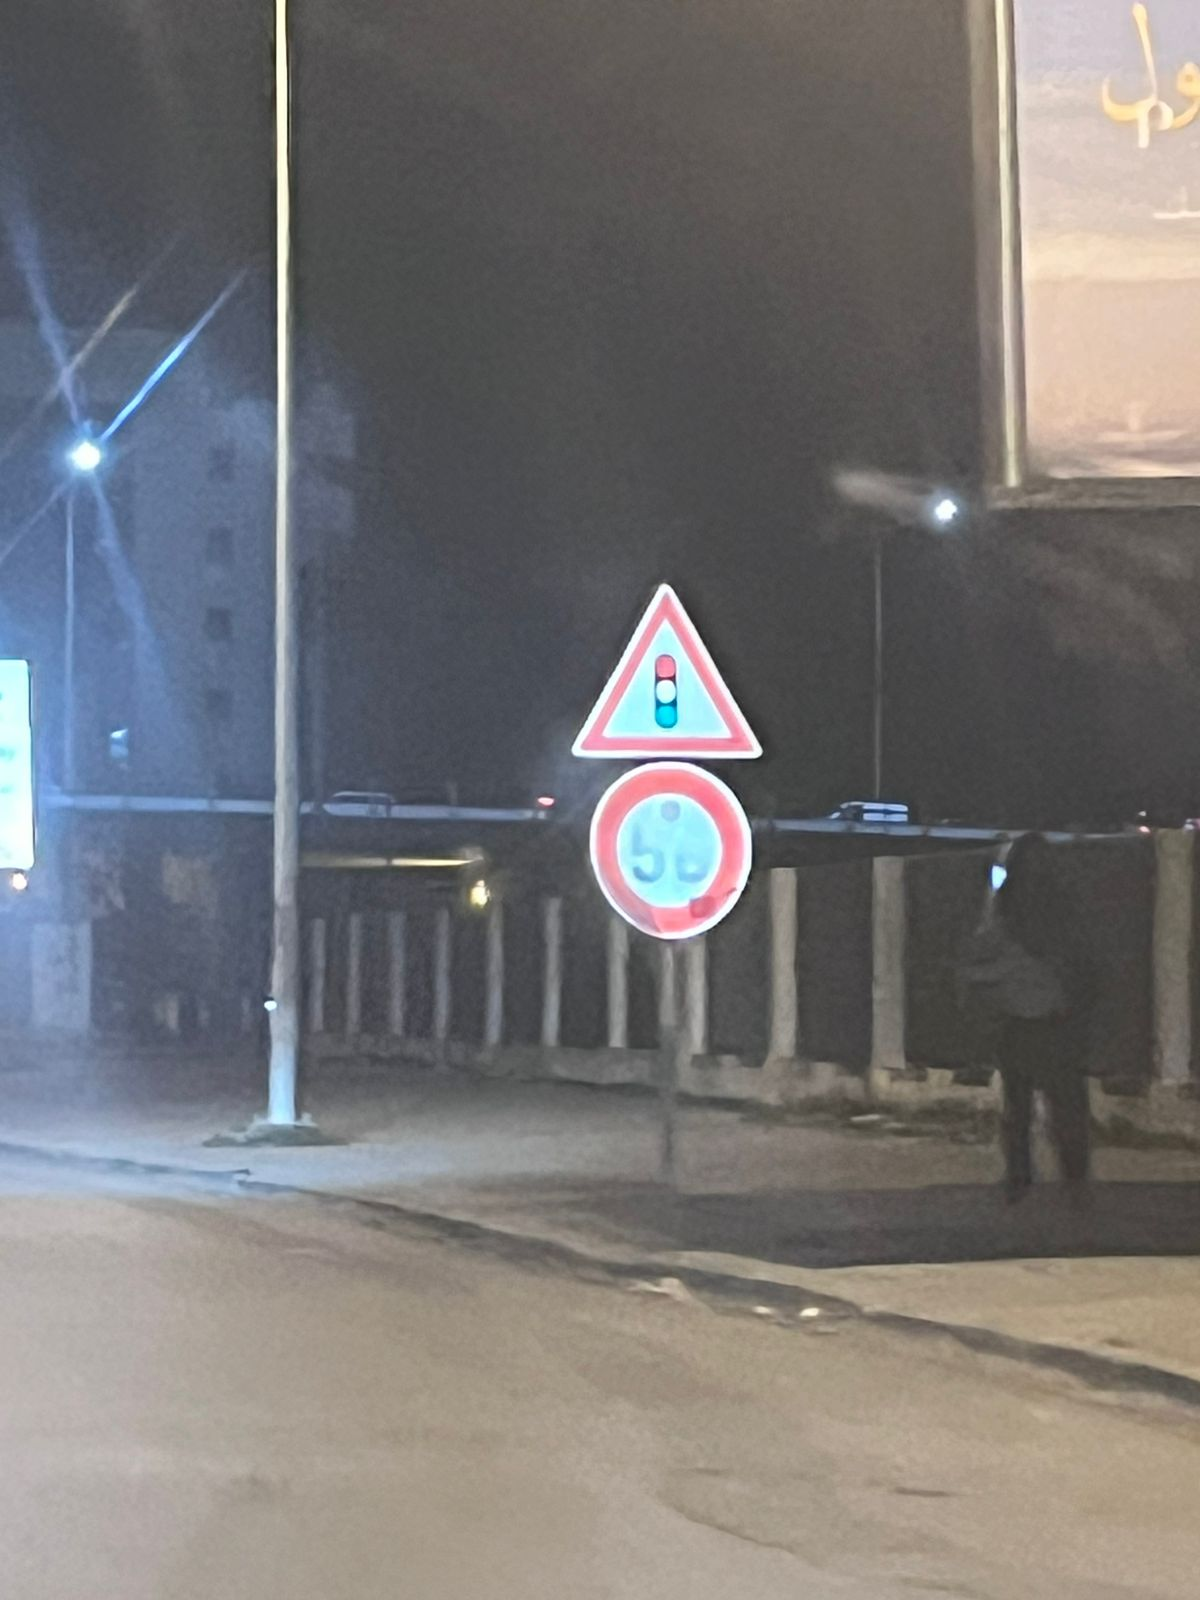SpeedLimit50: (589, 760, 755, 941)
